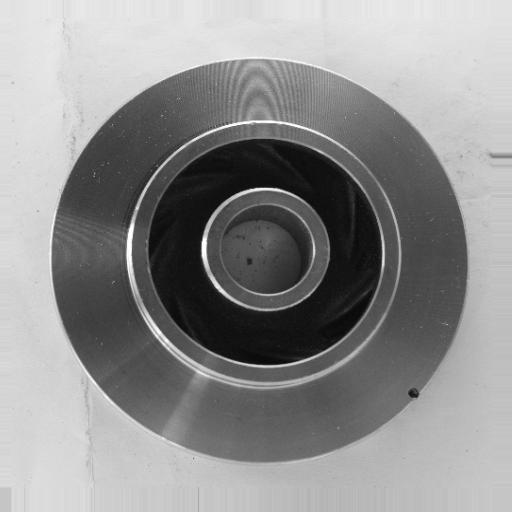pit: (399, 385, 427, 406)
unpolished_casting: (49, 56, 470, 465)
